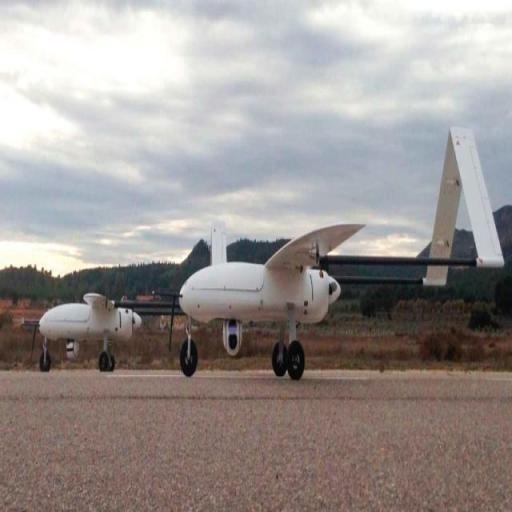uav: (167, 115, 512, 389)
